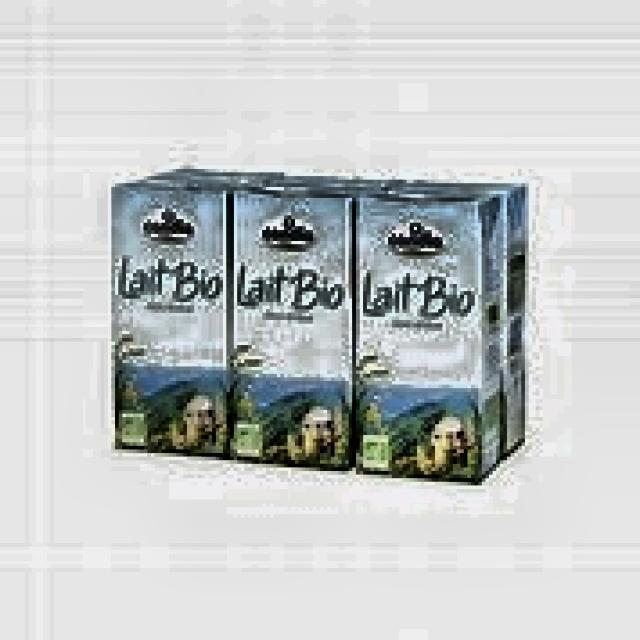cardboard: (108, 162, 528, 486)
